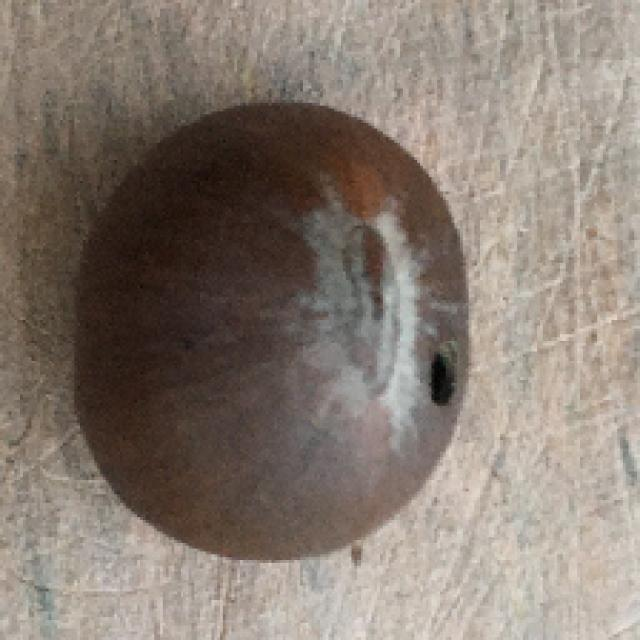damagedHazelnut: (70, 88, 470, 570)
